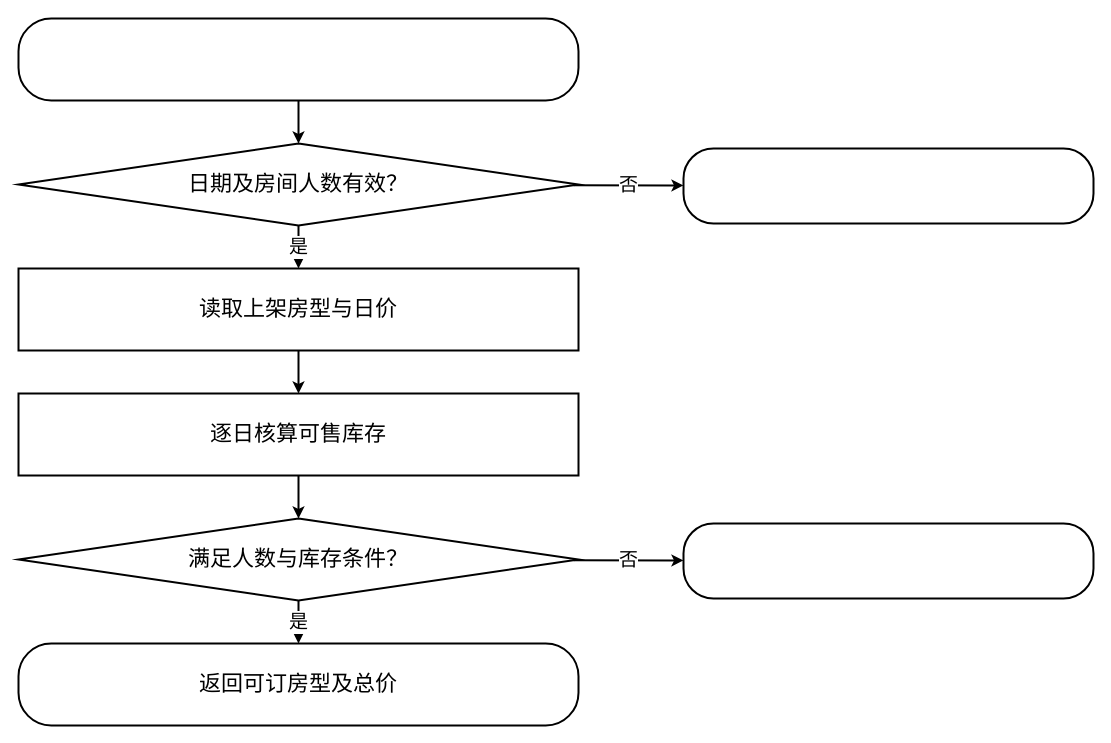
The diagram is 1111 pixels wide and 743 high, and some of its shapes have lost their labels. The box of each missing label's shape, as (x1, y1, x2, y2) in pixels:
开始／输入入住退房日期: (17, 17, 579, 101)
提示日期或人数错误: (682, 147, 1094, 224)
返回空列表及提示: (682, 522, 1094, 599)
